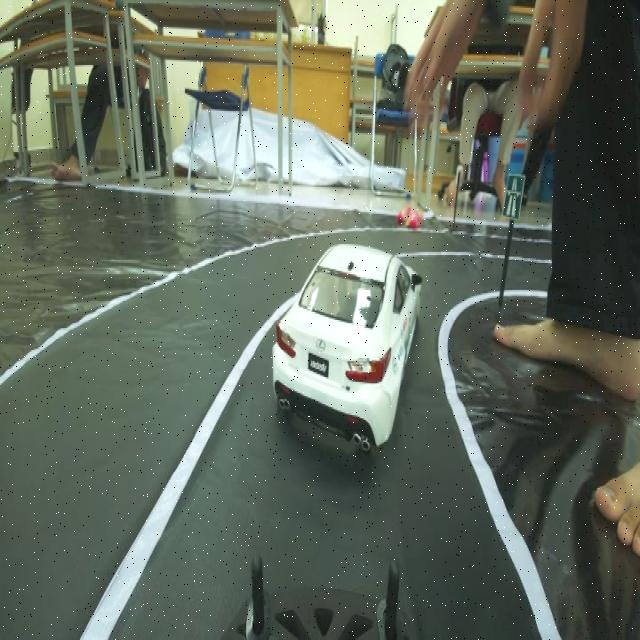car: (279, 229, 425, 457)
highway_entry: (500, 162, 526, 230)
